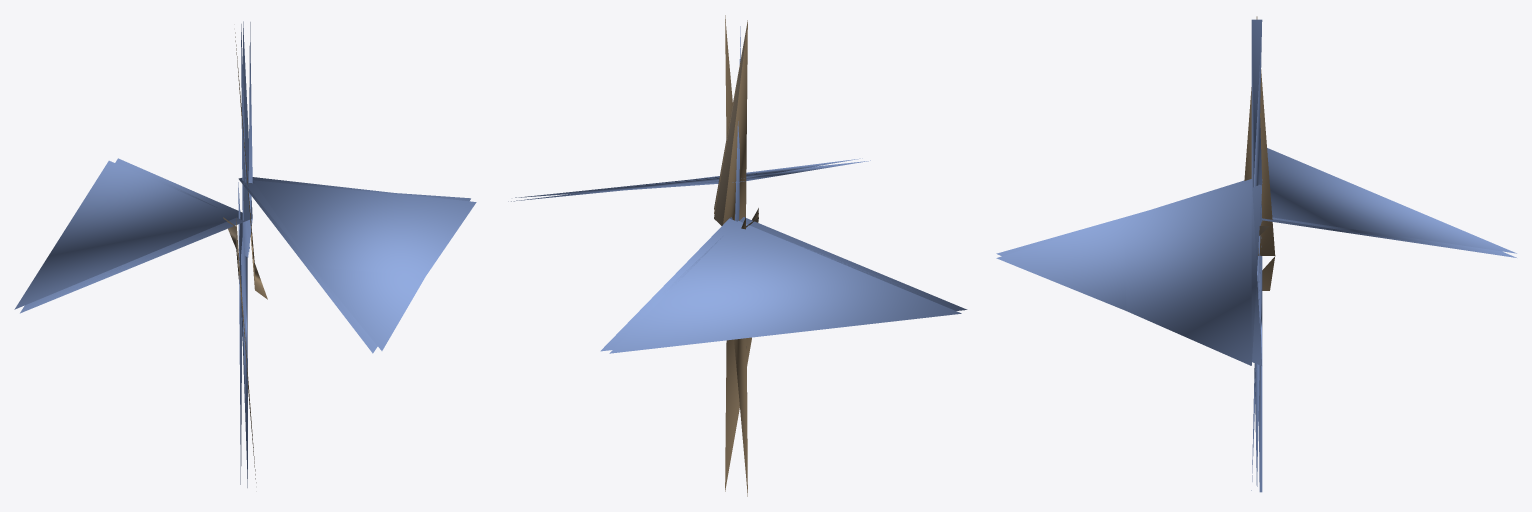
The model's file is equip_ammo_quiver_rune.glb.
3 renders of one model, left to right at view 1: azimuth 30°, elevation 25°; view 2: azimuth 150°, elevation 25°; view 3: azimuth 270°, elevation 25°, orthographic.
Visible parts, largest first — view 1: equip_ammo_quiver_rune; view 2: equip_ammo_quiver_rune; view 3: equip_ammo_quiver_rune.
Boxes of the visible parts, x1=… form: equip_ammo_quiver_rune: x1=14, y1=21, x2=476, y2=487; equip_ammo_quiver_rune: x1=508, y1=15, x2=967, y2=496; equip_ammo_quiver_rune: x1=996, y1=16, x2=1516, y2=492.
Size of the model in its own units: 2 by 2 by 2.
